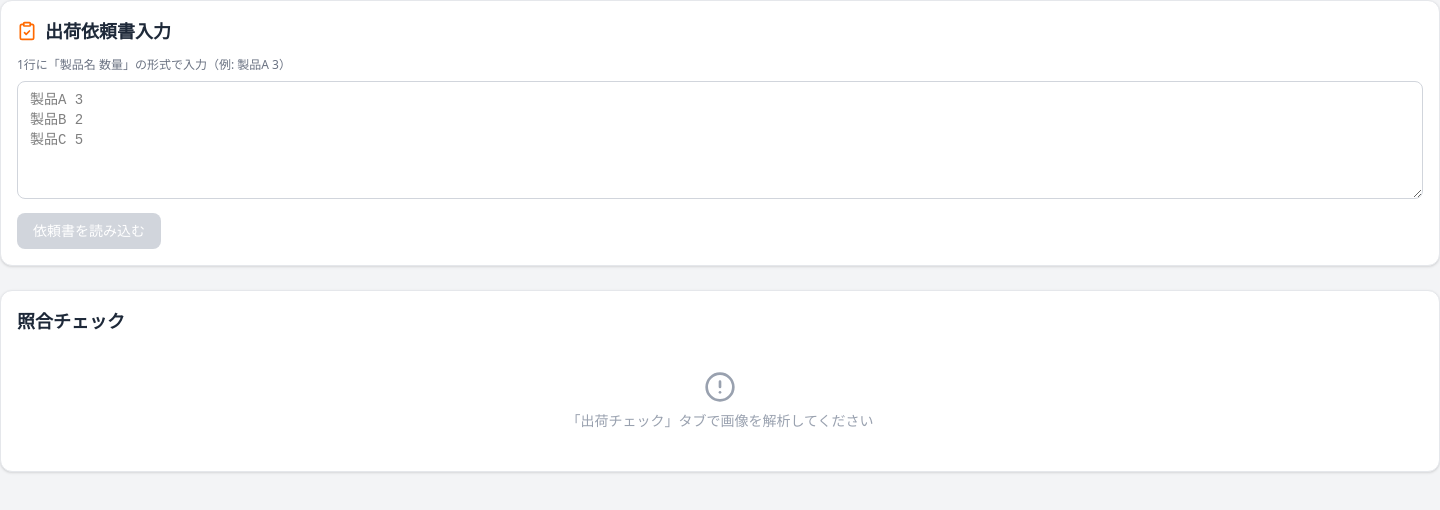
Test: ShippingVerification › 不正フォーマットの依頼書はエラーメッセージが出る
Type "これは不正なフォーマット" into the text box at (720, 140), box [17, 81, 1423, 199]
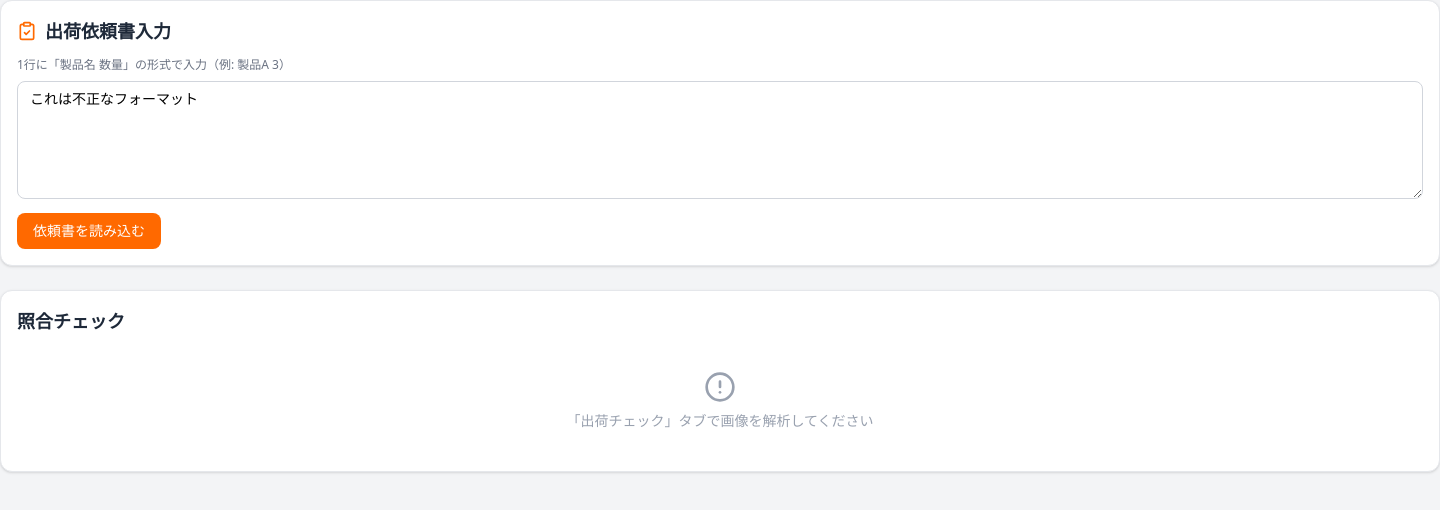
Click the button "依頼書を読み込む" at (89, 231), box [17, 213, 161, 249]
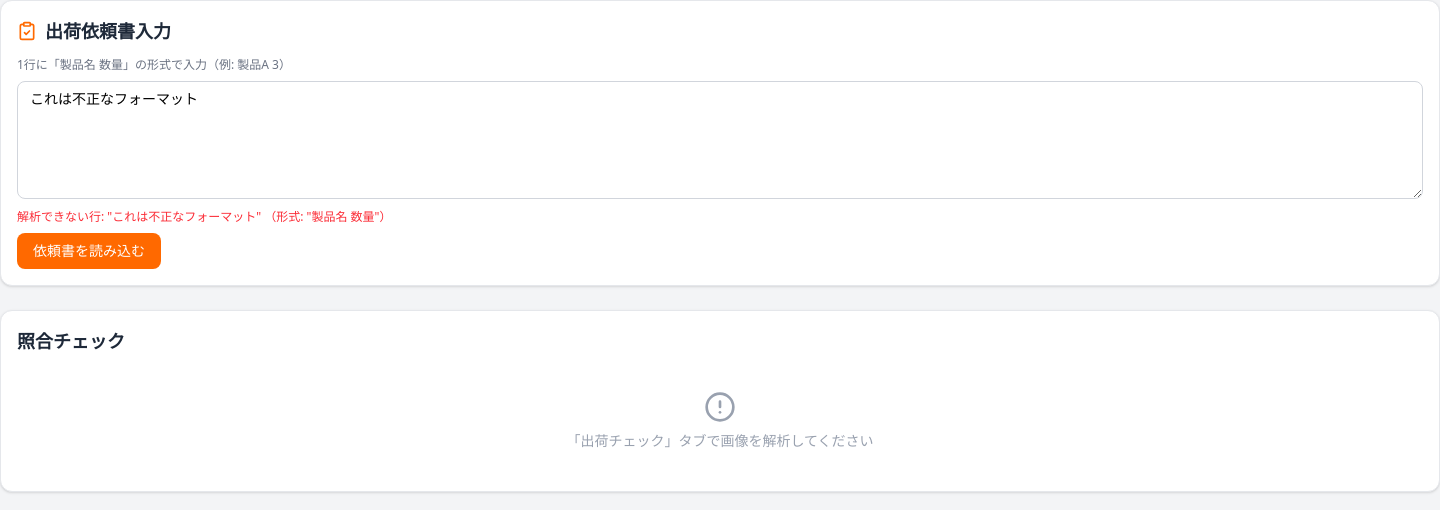
expect the text "解析できない行: \"これは不正なフォーマット\" （形式: \"製品名 数量\"）" is shown: met, box [17, 208, 392, 225]
